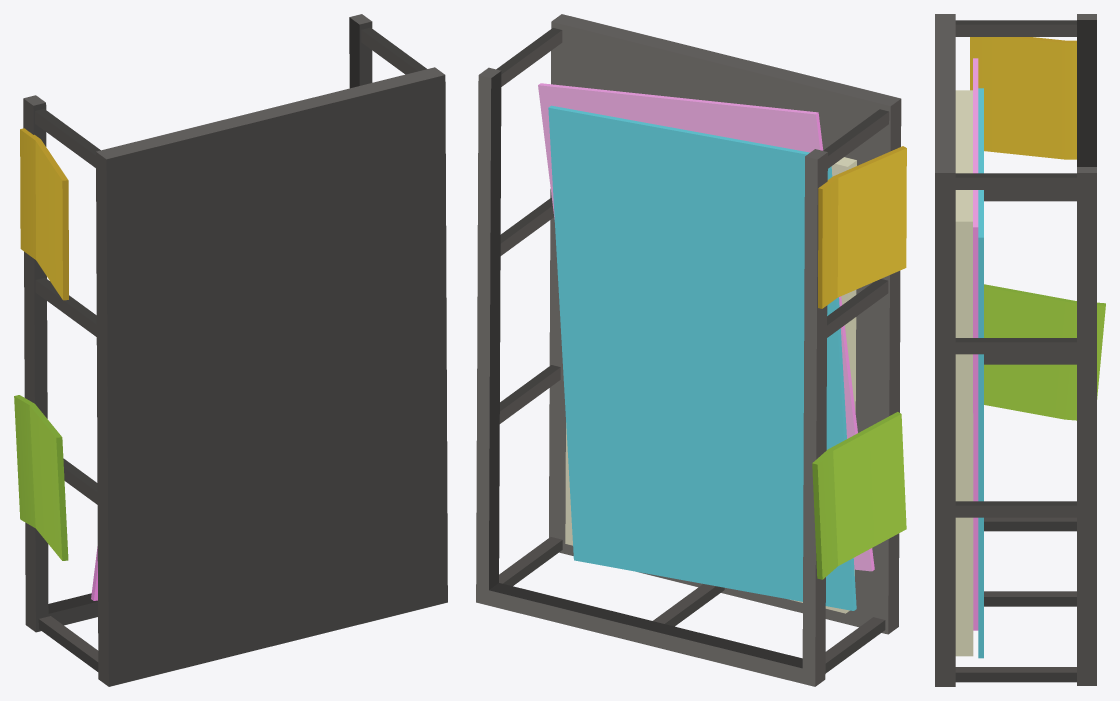
File: PaperTray2.glb
3 renders of one model, left to right at view 1: azimuth 30°, elevation 25°; view 2: azimuth 150°, elevation 25°; view 3: azimuth 270°, elevation 25°, orthographic. The views are drawn at different scales.
Visible parts, largest first — view 1: SO_PaperTray_02; view 2: SO_PaperTray_02; view 3: SO_PaperTray_02.
Part boxes in pixels (box(x1,y1,x2,y2)): SO_PaperTray_02: box(14, 14, 447, 686); SO_PaperTray_02: box(476, 14, 906, 686); SO_PaperTray_02: box(935, 14, 1105, 686).
Bounding box in the file's own units: 0.6246 × 0.8624 × 0.2595.
1 material, 1 textured.
